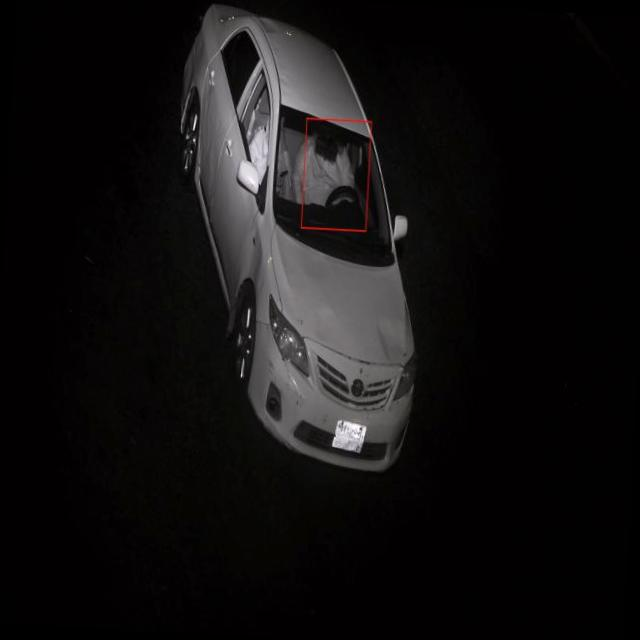person_without_seatbelt: (307, 118, 364, 227)
